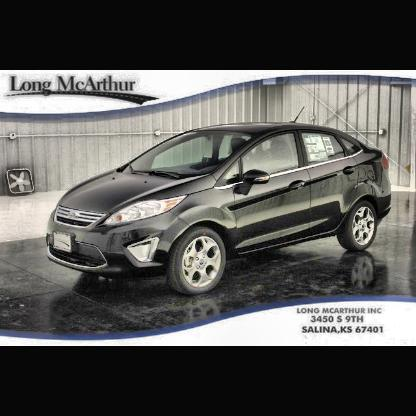Ford Fiesta Sedan 2012: (46, 109, 393, 294)
